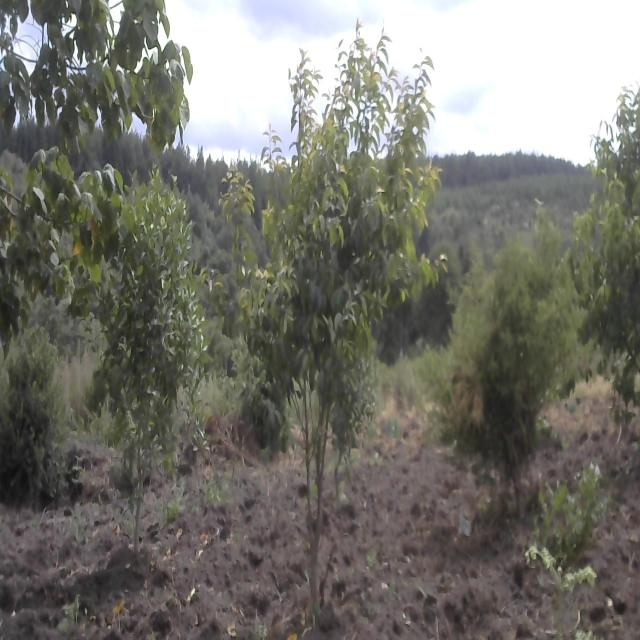Croton machrostychus: (0, 0, 190, 327)
Juniperus procesera: (436, 272, 566, 510)
Olea welwitchii: (225, 32, 439, 584), (96, 172, 207, 558), (571, 83, 640, 391)
